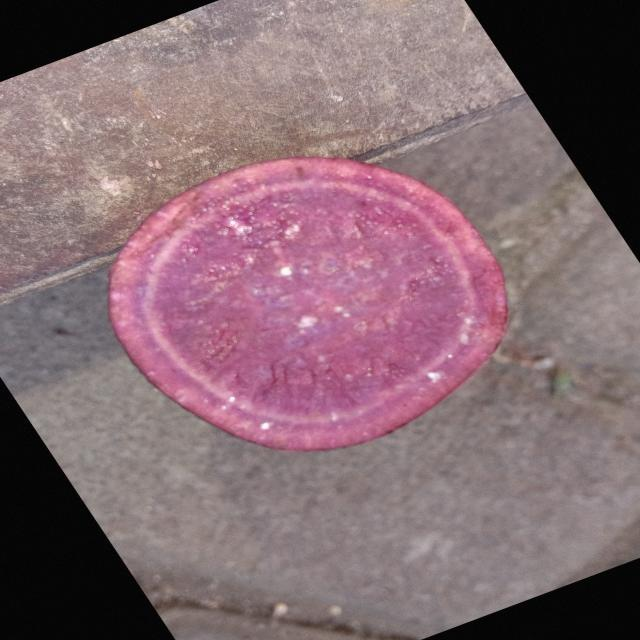Healthy Sweet Potato: (108, 158, 507, 451)
